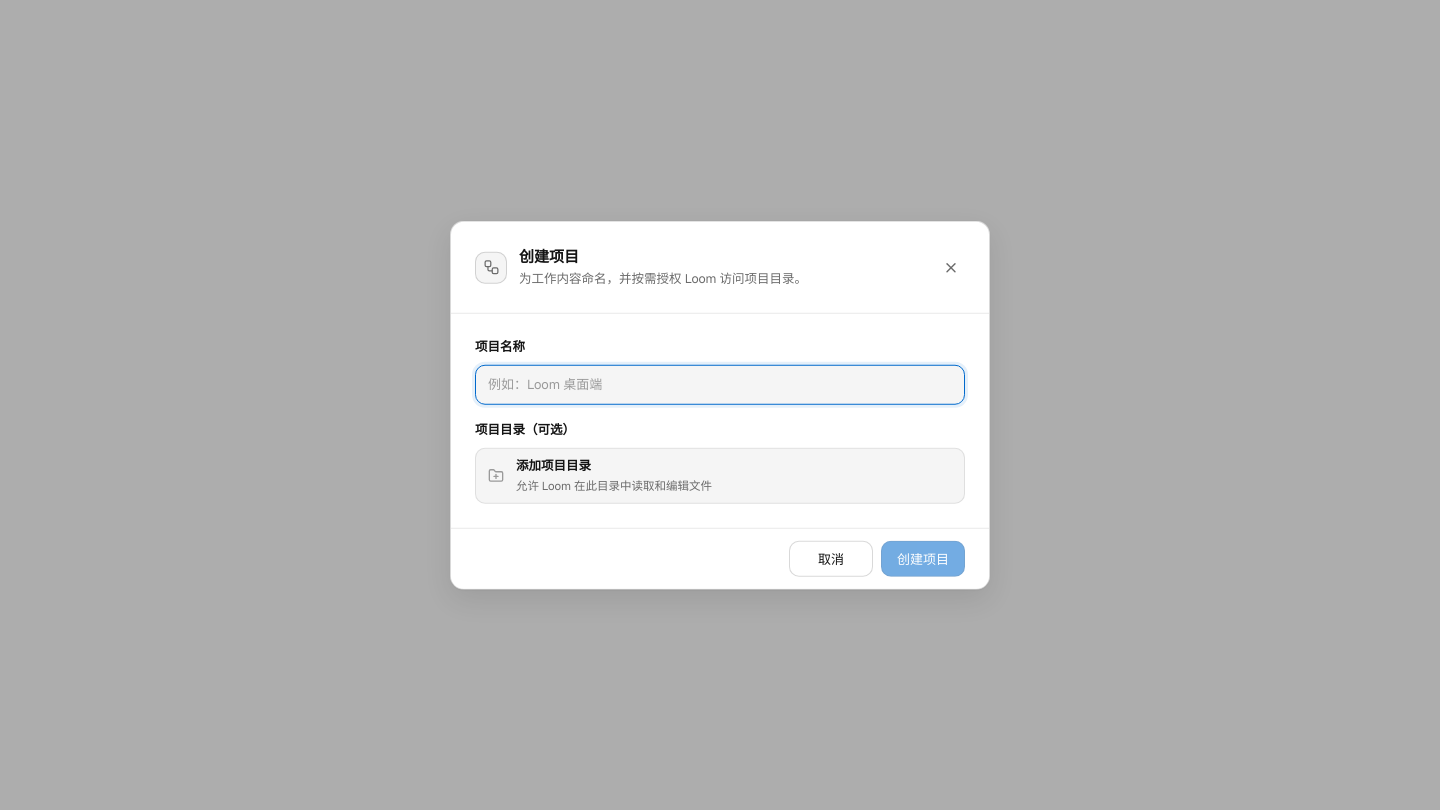
Test case: CreateProjectDialog › associates a rejecting picker alert with the directory action
Click the button "添加项目目录 允许 Loom 在此目录中读取和编辑文件".
click(554, 465)  # box x1=475 y1=447 x2=965 y2=503
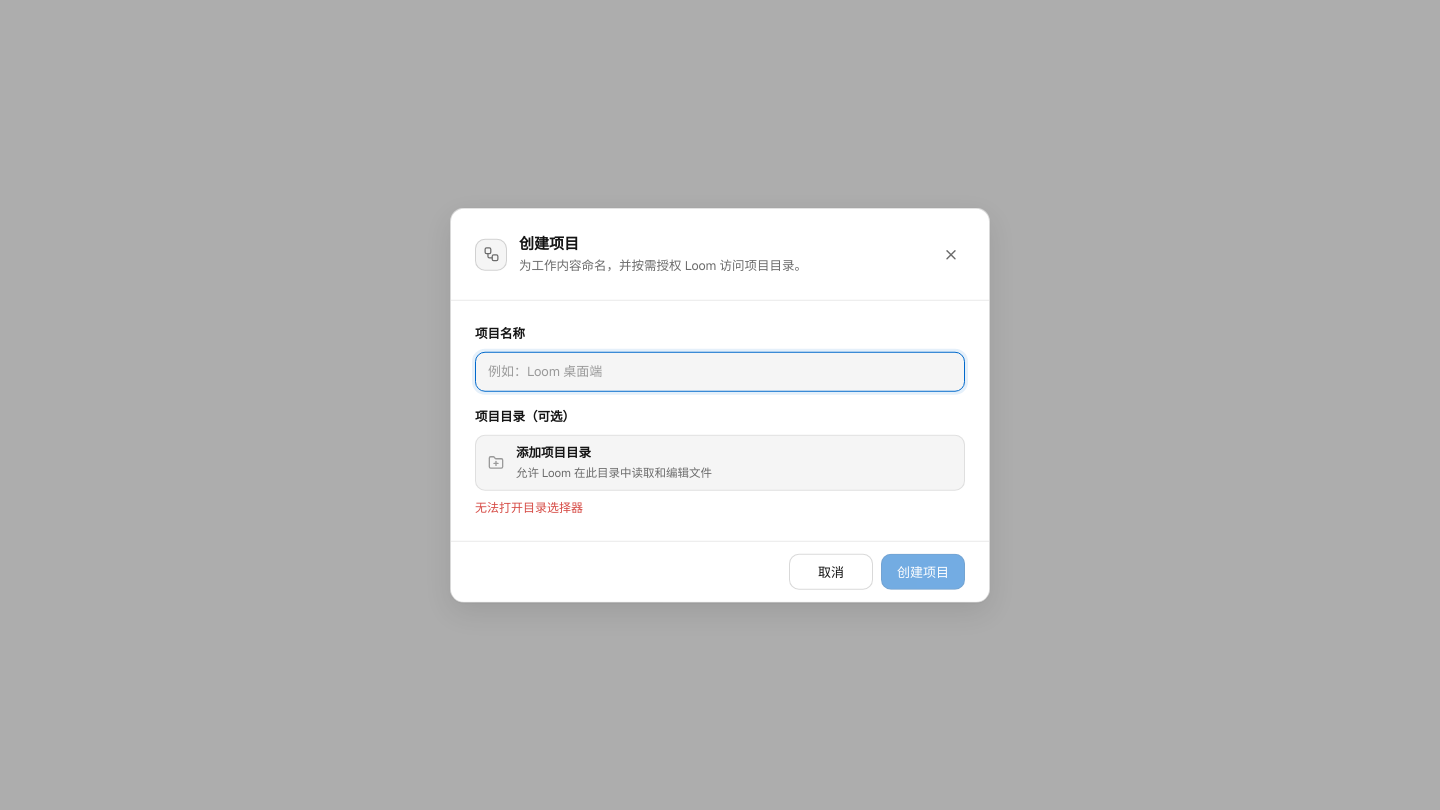
Check: the message reads "无法打开目录选择器", box x1=475 y1=499 x2=583 y2=515
